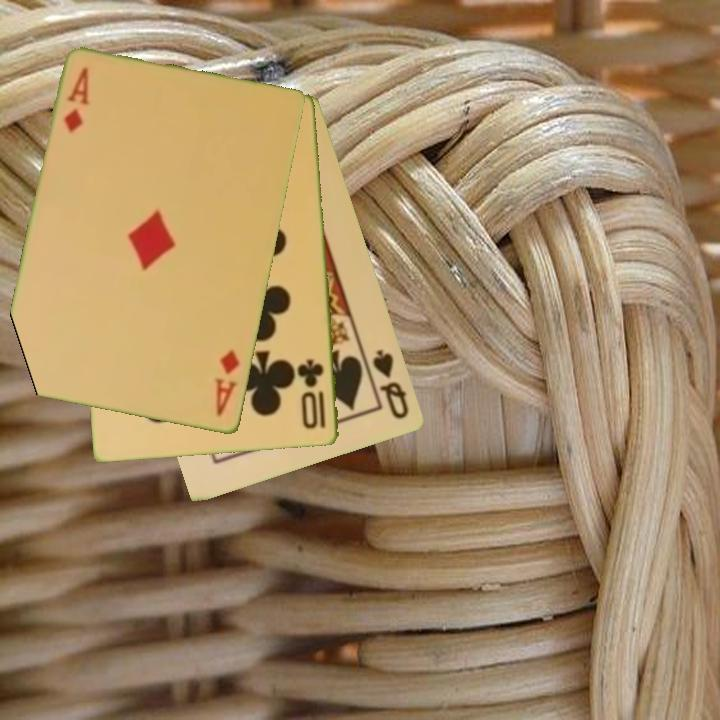10c: (296, 356, 329, 432)
Ad: (211, 346, 243, 420), (61, 64, 92, 137)
Qs: (369, 346, 412, 423)
